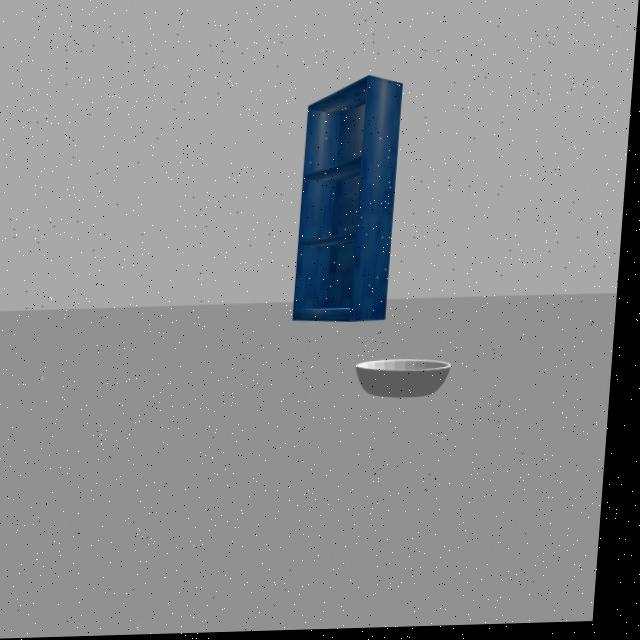bowl: (351, 350, 481, 402)
shelf: (283, 66, 425, 346)
